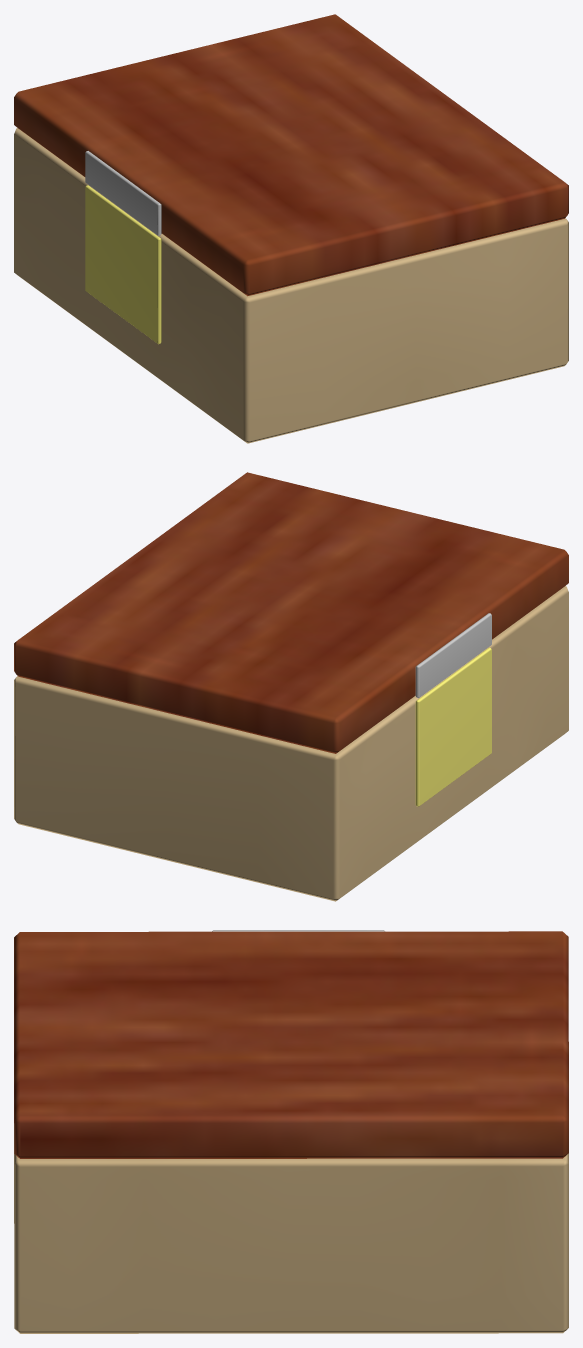
The model's file is BoxSmall.fbx.
3 renders of one model, top to bottom at view 1: azimuth 30°, elevation 25°; view 2: azimuth 150°, elevation 25°; view 3: azimuth 270°, elevation 25°, orthographic. The views are drawn at different scales.
Visible parts, largest first — view 1: SM_Cabinets.001; view 2: SM_Cabinets.001; view 3: SM_Cabinets.001.
Part boxes in pixels (left/top/right/bottom): SM_Cabinets.001: left=14, top=14, right=568, bottom=443; SM_Cabinets.001: left=14, top=472, right=568, bottom=901; SM_Cabinets.001: left=14, top=930, right=568, bottom=1333.
Bounding box in the file's own units: 18.76 × 10.02 × 23.02.
